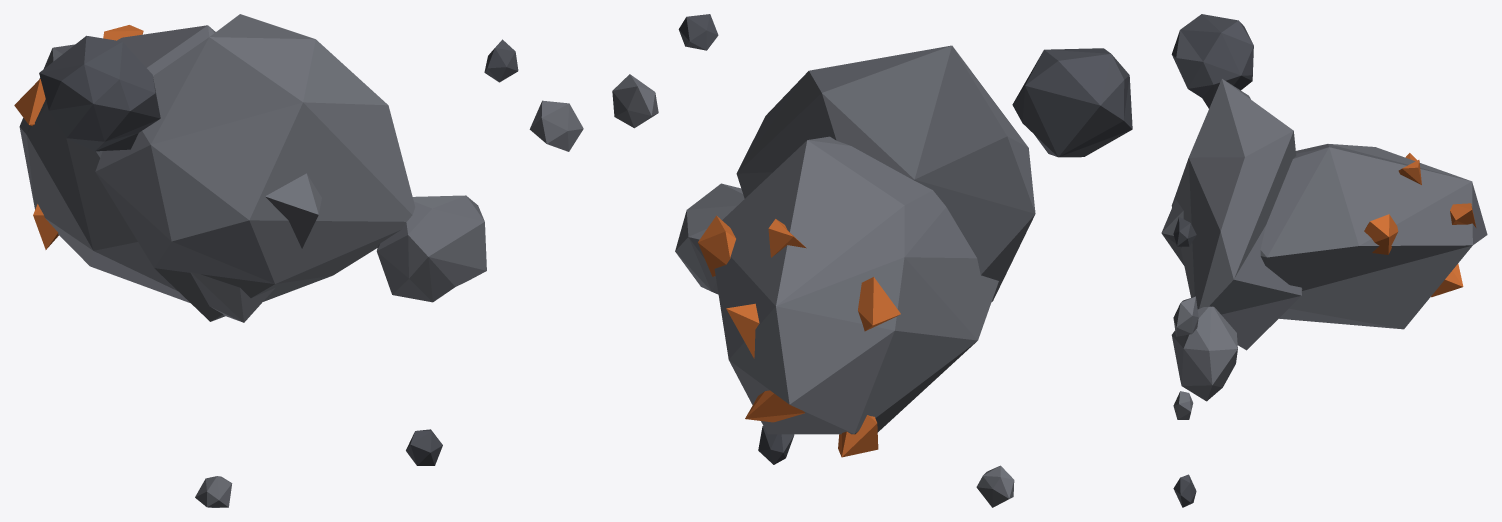
File: SM_Rock_Copper_01.fbx
3 views of the same model, side by side, from view 1: azimuth 30°, elevation 25°; view 2: azimuth 150°, elevation 25°; view 3: azimuth 270°, elevation 25° (orthographic). The views are drawn at different scales.
Visible parts, largest first — view 1: fam_rock, fam_rock_dark, fam_copper; view 2: fam_rock, fam_rock_dark, fam_copper; view 3: fam_rock, fam_rock_dark, fam_copper.
Part boxes in pixels (x1=…): fam_rock: x1=19, y1=14, x2=583, y2=507; fam_rock_dark: x1=39, y1=35, x2=518, y2=465; fam_copper: x1=14, y1=25, x2=143, y2=249; fam_rock: x1=612, y1=45, x2=1035, y2=507; fam_rock_dark: x1=678, y1=14, x2=1132, y2=464; fam_copper: x1=698, y1=215, x2=900, y2=457; fam_rock: x1=1161, y1=79, x2=1487, y2=419; fam_rock_dark: x1=1171, y1=14, x2=1253, y2=507; fam_copper: x1=1364, y1=153, x2=1476, y2=297.
Size of the model in its own units: 9.14 by 8.27 by 6.61.
